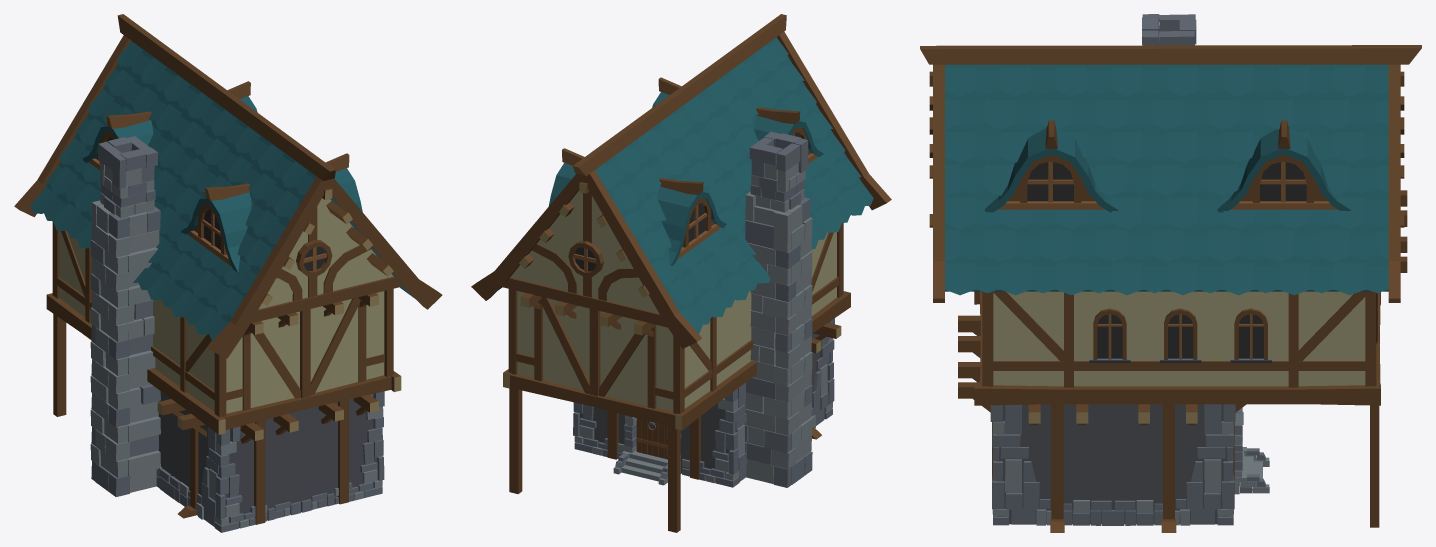
The model's file is house-2.glb.
The picture shows the model from 3 angles, left to right: view 1: azimuth 30°, elevation 25°; view 2: azimuth 150°, elevation 25°; view 3: azimuth 270°, elevation 25°; orthographic projection. The views are drawn at different scales.
Visible parts, largest first — view 1: House_2; view 2: House_2; view 3: House_2.
Part boxes in pixels (x1=…): House_2: x1=14, y1=14, x2=442, y2=532; House_2: x1=471, y1=14, x2=891, y2=532; House_2: x1=920, y1=14, x2=1421, y2=532.
Size of the model in its own units: 2.22 by 3.25 by 3.42.
